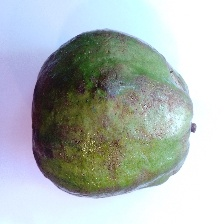guava: (31, 29, 217, 185)
